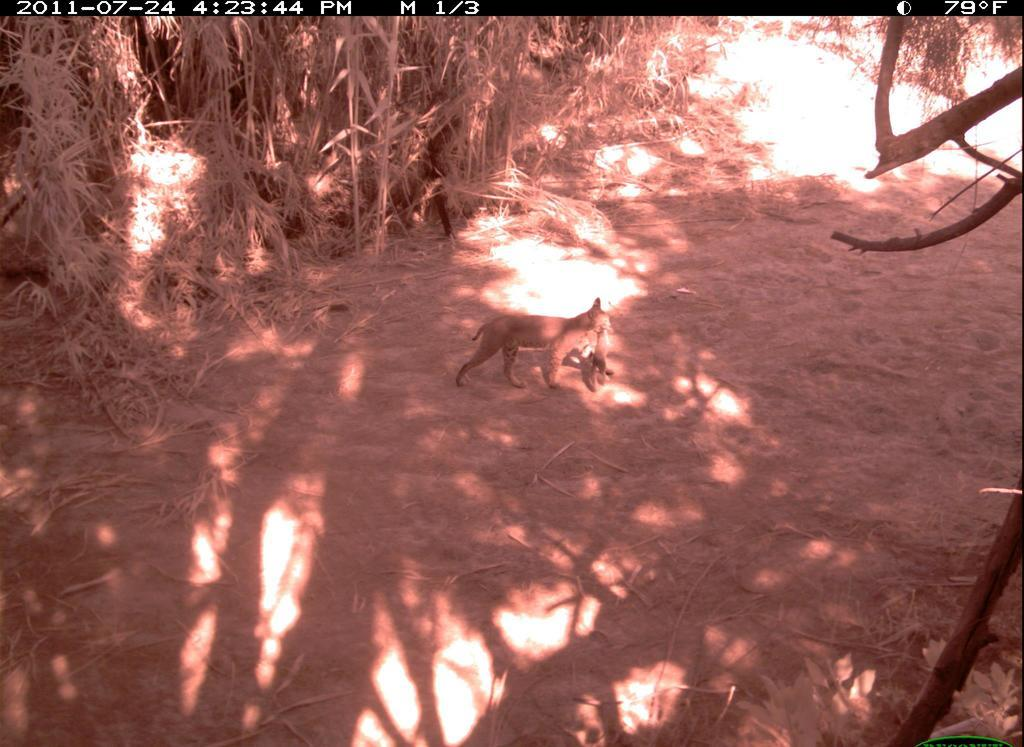bobcat: (436, 296, 646, 408)
